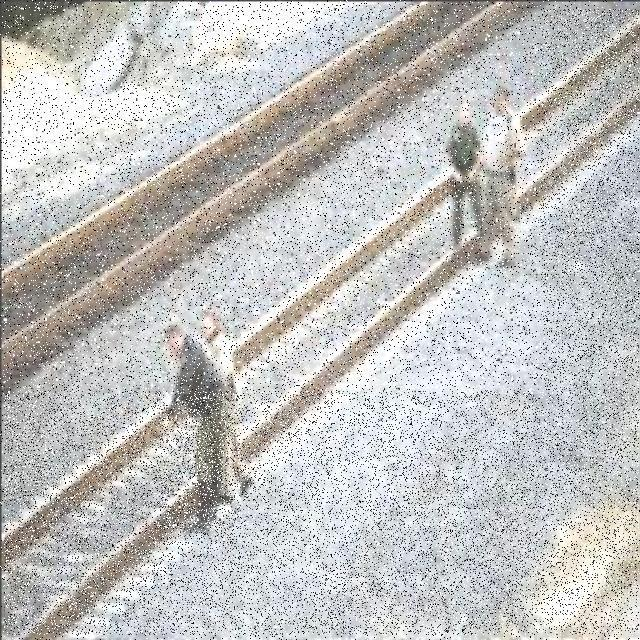danger: (154, 323, 240, 526), (446, 102, 526, 275)
rail: (4, 9, 639, 635), (3, 3, 541, 391)
